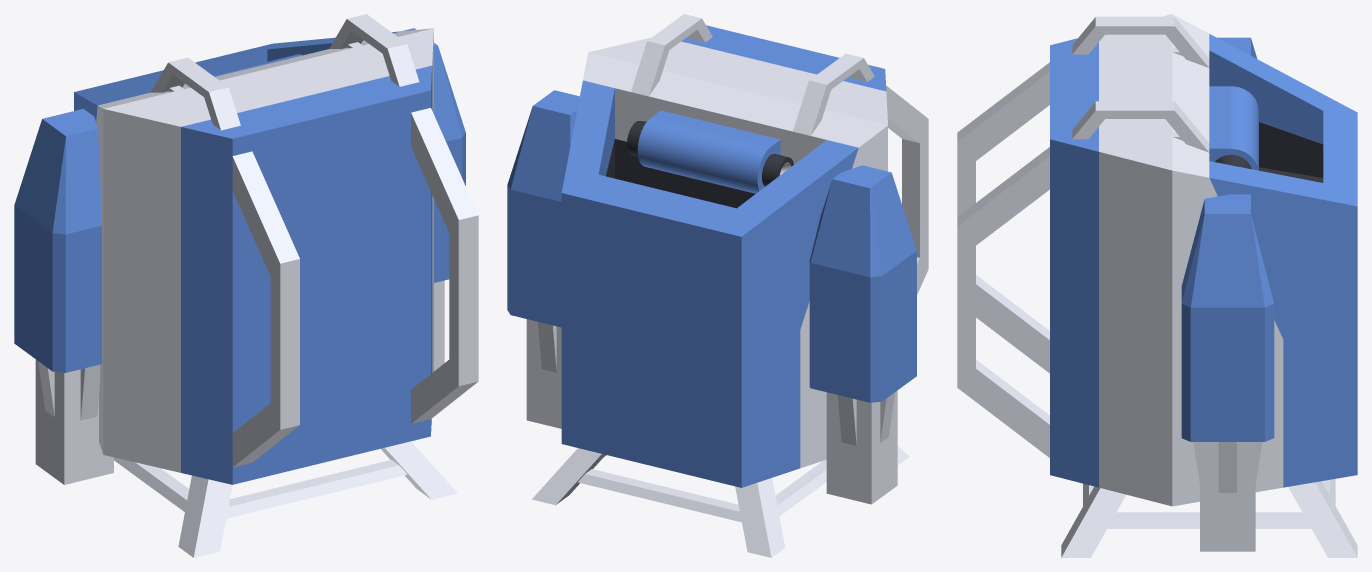
The model's file is Jetpack1.fbx.
3 views of the same model, side by side, from view 1: azimuth 30°, elevation 25°; view 2: azimuth 150°, elevation 25°; view 3: azimuth 270°, elevation 25° (orthographic). The views are drawn at different scales.
Visible parts, largest first — view 1: hull_topMiddle, engine_detailed (×2), gear_bars, gear_slantEnforced, hull_topEngine, gear_barsEnforced; view 2: hull_topEngine, engine_detailed (×2), hull_topMiddle, gear_slantEnforced, scope_small, gear_barsEnforced, gear_bars; view 3: hull_topMiddle, hull_topEngine, engine_detailed, gear_bars, gear_slantEnforced, gear_barsEnforced, scope_small.
Boxes of the visible parts, left/top/right/bottom form: hull_topMiddle: left=103, top=28, right=433, bottom=484; engine_detailed (×2): left=14, top=28, right=465, bottom=484; gear_bars: left=232, top=108, right=478, bottom=467; gear_slantEnforced: left=114, top=441, right=457, bottom=557; hull_topEngine: left=74, top=28, right=432, bottom=453; gear_barsEnforced: left=150, top=14, right=419, bottom=130; hull_topEngine: left=561, top=52, right=887, bottom=487; engine_detailed (×2): left=507, top=90, right=916, bottom=504; hull_topMiddle: left=589, top=25, right=887, bottom=125; gear_slantEnforced: left=532, top=446, right=909, bottom=557; scope_small: left=627, top=110, right=793, bottom=193; gear_barsEnforced: left=631, top=14, right=874, bottom=135; gear_bars: left=886, top=85, right=928, bottom=294; hull_topMiddle: left=1050, top=14, right=1172, bottom=506; hull_topEngine: left=1172, top=14, right=1357, bottom=506; engine_detailed: left=1181, top=194, right=1274, bottom=551; gear_bars: left=957, top=62, right=1049, bottom=457; gear_slantEnforced: left=1061, top=479, right=1357, bottom=557; gear_barsEnforced: left=1072, top=16, right=1209, bottom=152; scope_small: left=1209, top=86, right=1258, bottom=170.
Bounding box in the file's own units: 12.5 × 12.85 × 10.8.
